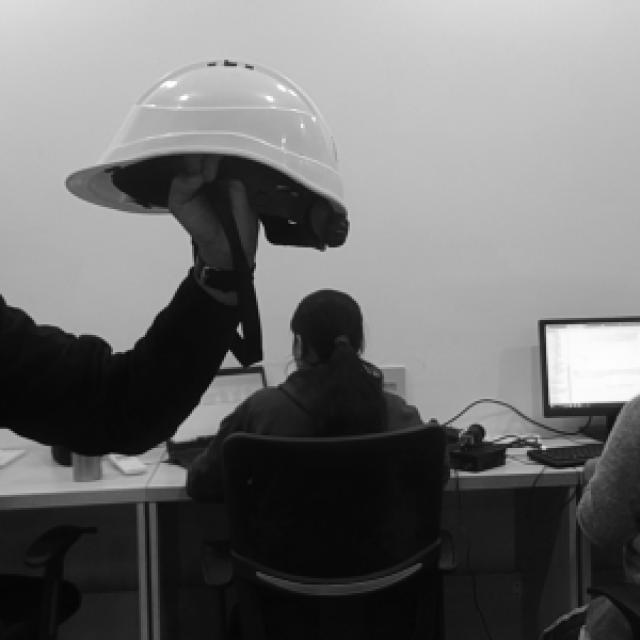safety_helmet: (65, 59, 349, 246)
